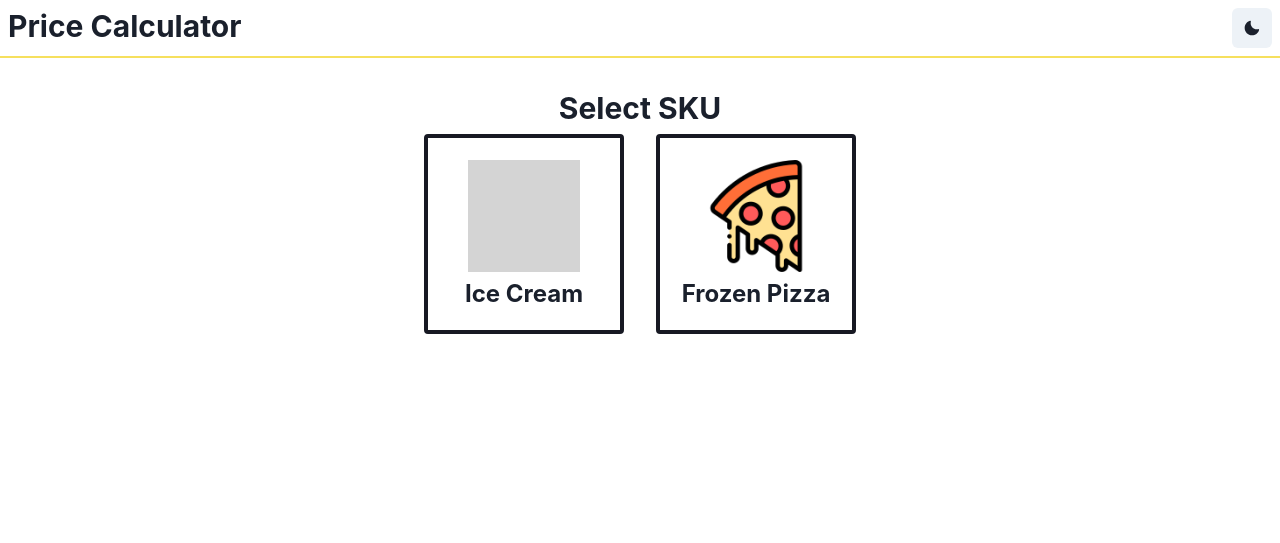
Scenario: calculate ice cream sku › using UI
Click the heading "Ice Cream": (524,295) [465, 280, 583, 309]
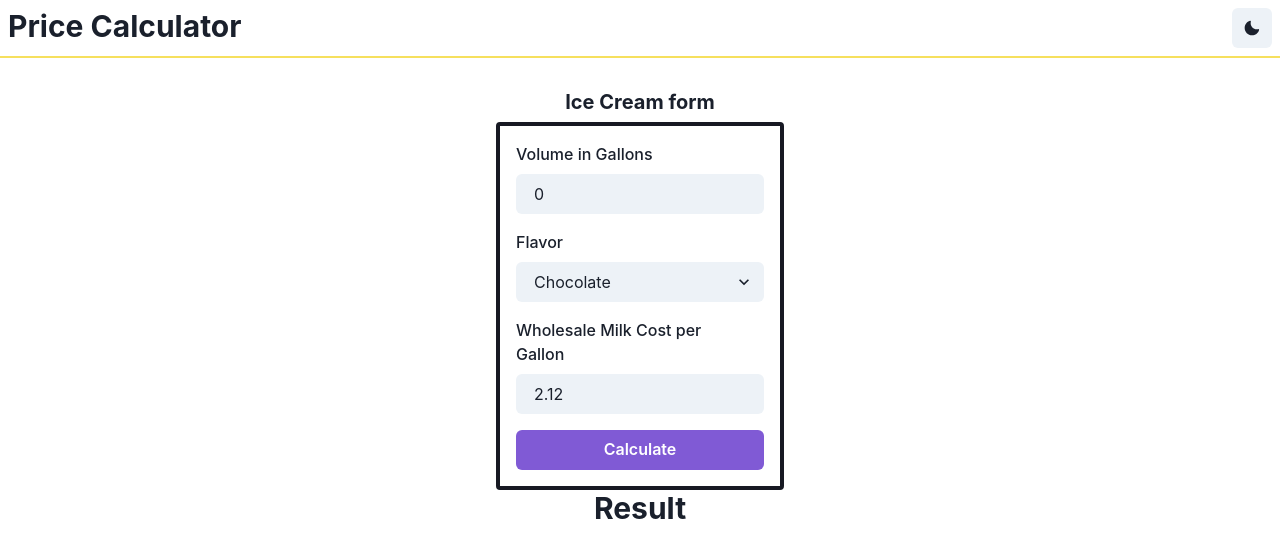
Replace the text in the field named "volume" with "10": (640,194) [516, 174, 764, 214]
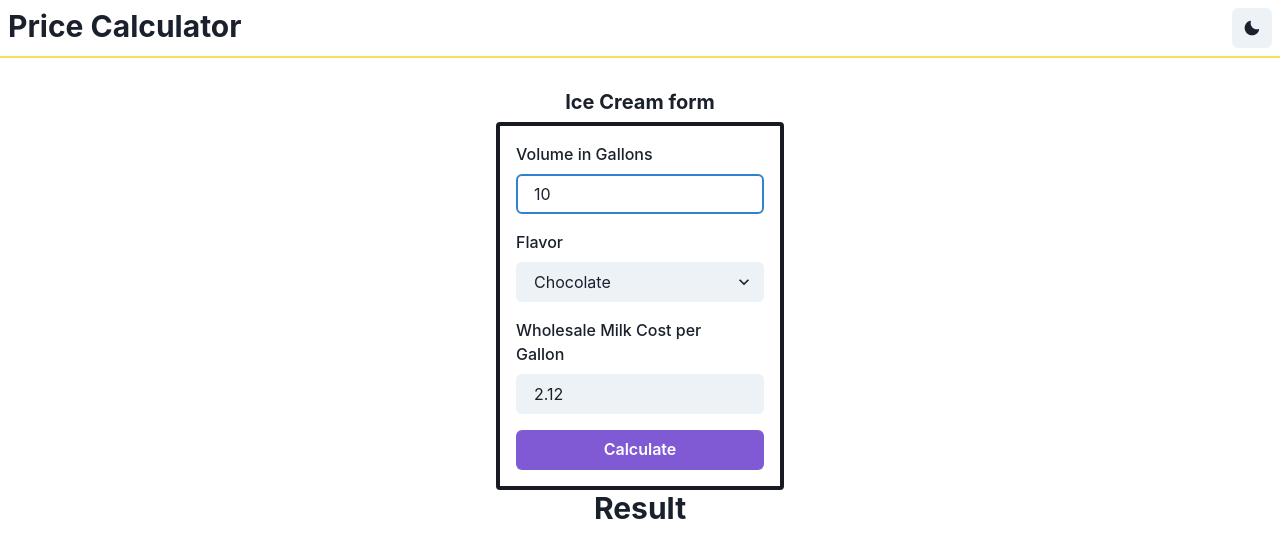
Select "Vanilla" in the dropdown named "flavor": (640,282) [516, 262, 764, 302]
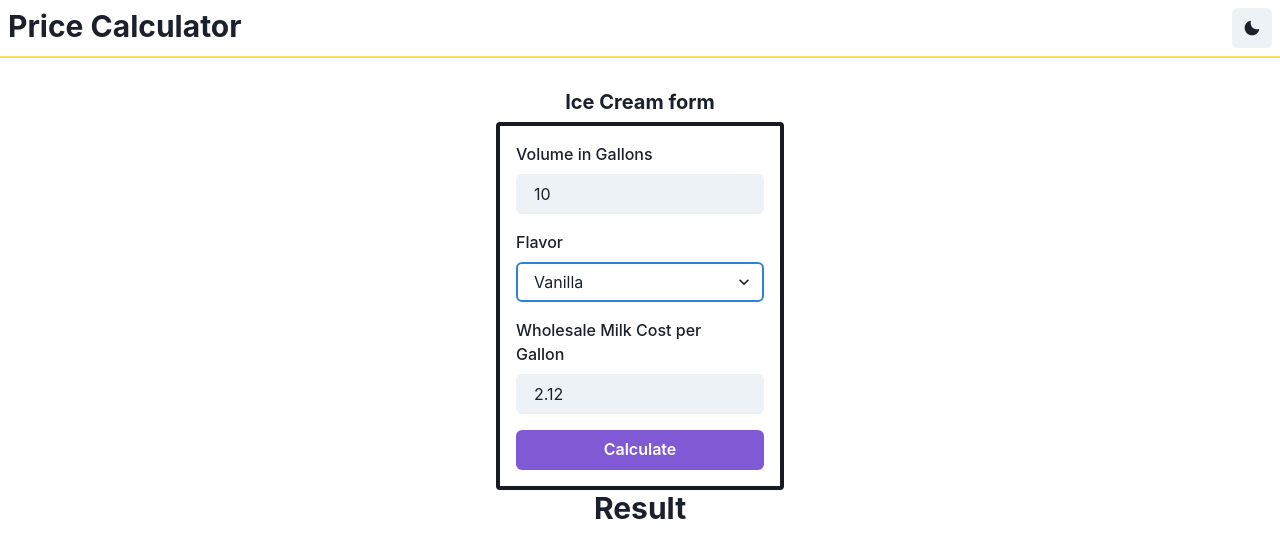
Replace the text in the field named "milk" with "3": (640,394) [516, 374, 764, 414]
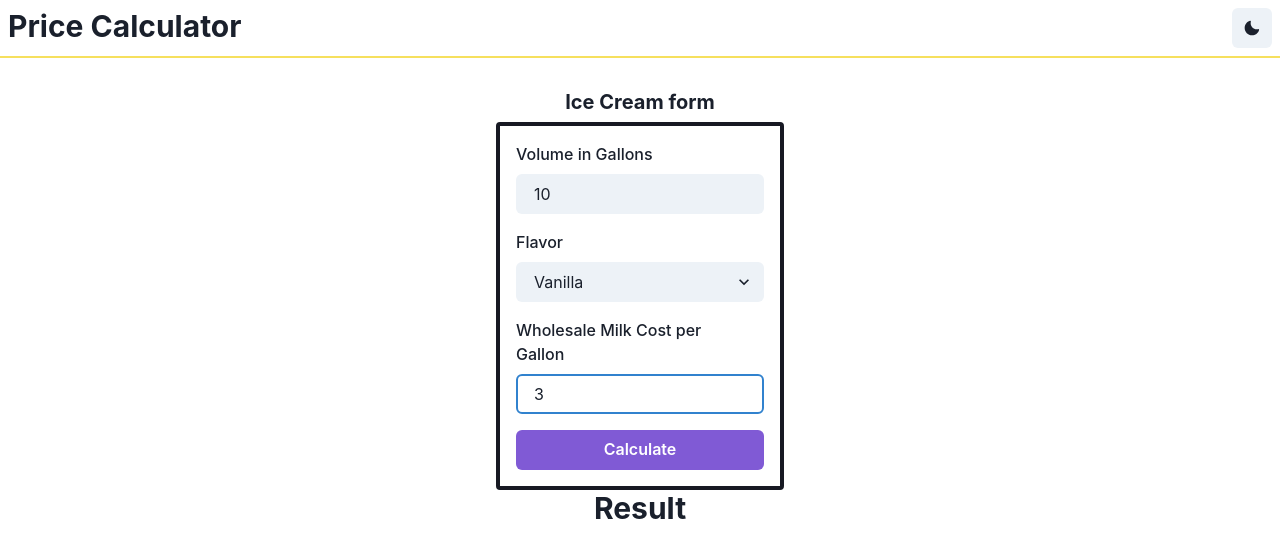
Click the button "Calculate": (640,450) [516, 430, 764, 470]
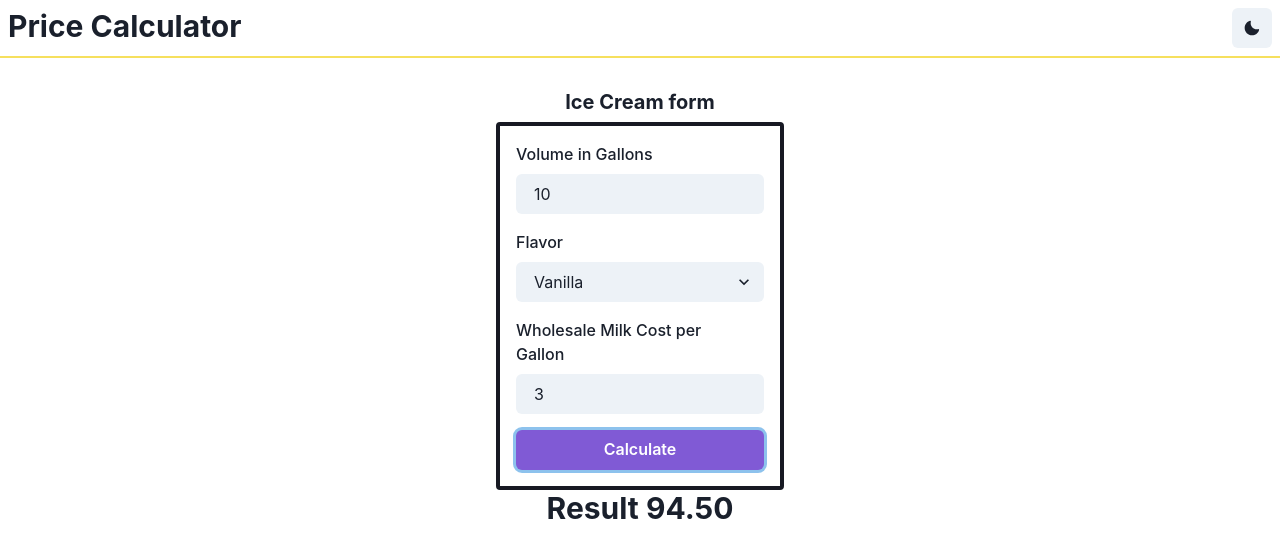
Expected: the heading "Result 94.50" is shown, [547, 490, 733, 526]
